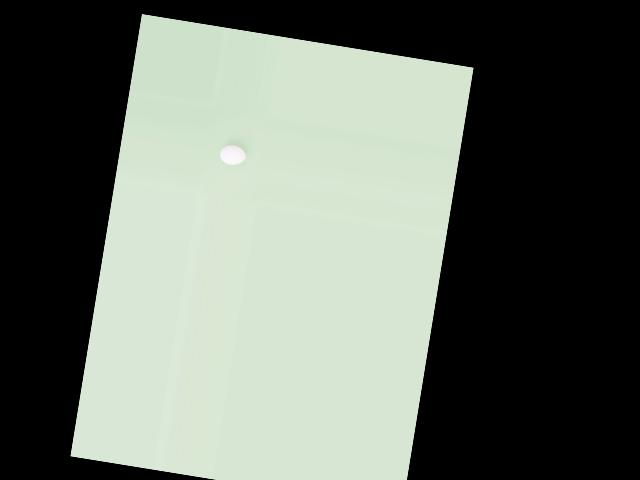egg: (217, 143, 246, 167)
